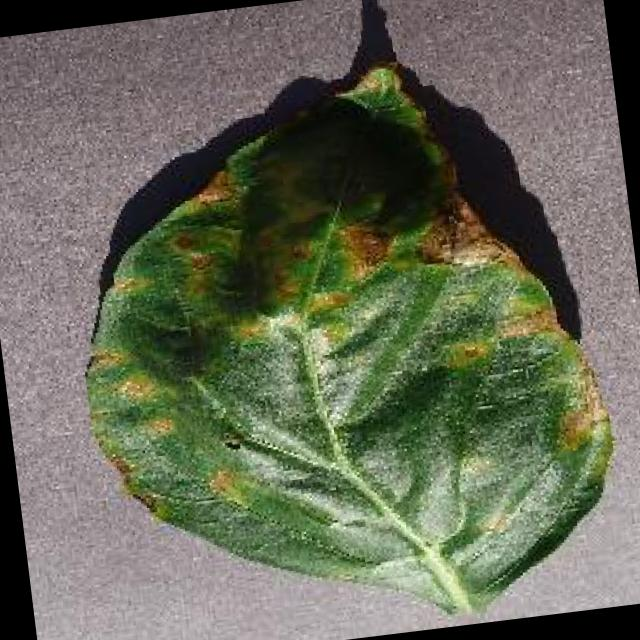Chilli_Bacterial_Spot: (46, 37, 636, 640), (336, 216, 398, 280), (349, 60, 406, 104), (438, 332, 492, 375), (188, 164, 238, 210), (110, 366, 159, 408), (140, 408, 178, 442), (202, 462, 236, 500), (168, 224, 198, 256)
